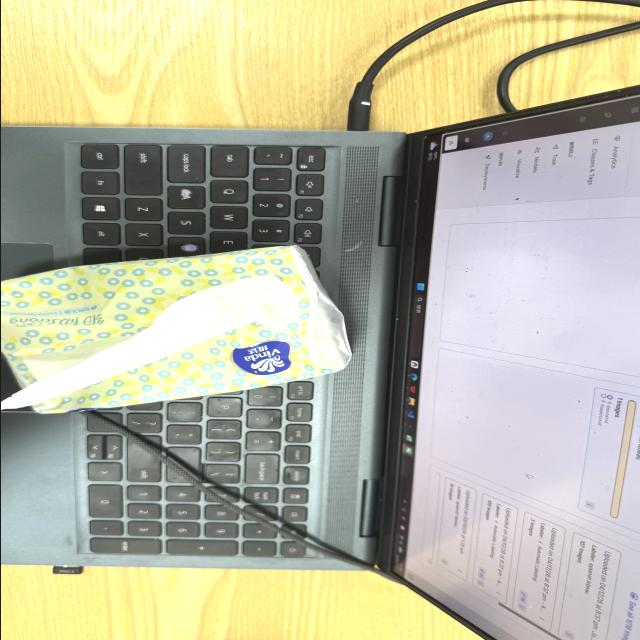tissue: (1, 247, 349, 412)
